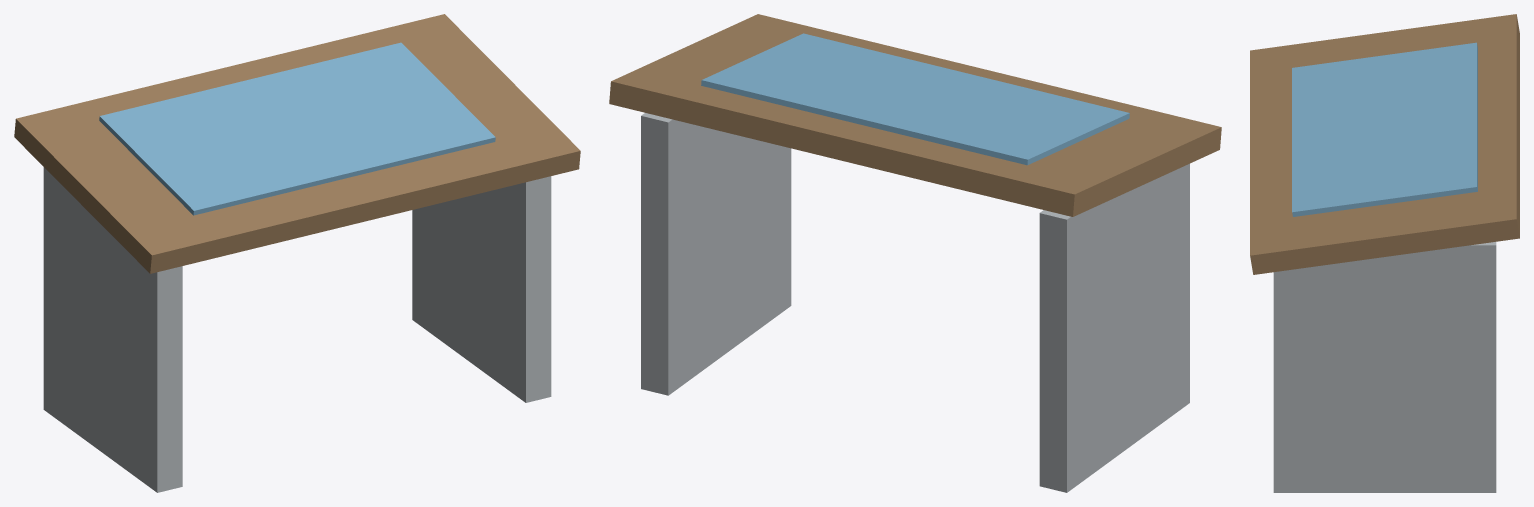
The model's file is SM_ResearchTable.fbx.
The picture shows the model from 3 angles, left to right: view 1: azimuth 30°, elevation 25°; view 2: azimuth 150°, elevation 25°; view 3: azimuth 270°, elevation 25°; orthographic projection. The views are drawn at different scales.
Parts seen in each view (by area): view 1: SM_ResearchTable; view 2: SM_ResearchTable; view 3: SM_ResearchTable.
Boxes of the visible parts, x1,y1,x2,y2 form: SM_ResearchTable: [14, 14, 580, 492]; SM_ResearchTable: [609, 14, 1221, 492]; SM_ResearchTable: [1250, 14, 1519, 492].
Bounding box in the file's own units: 13500 × 7505 × 8713.
